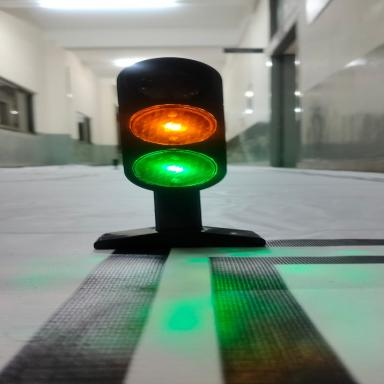green: (116, 147, 290, 260)
yellow: (113, 97, 244, 147)
